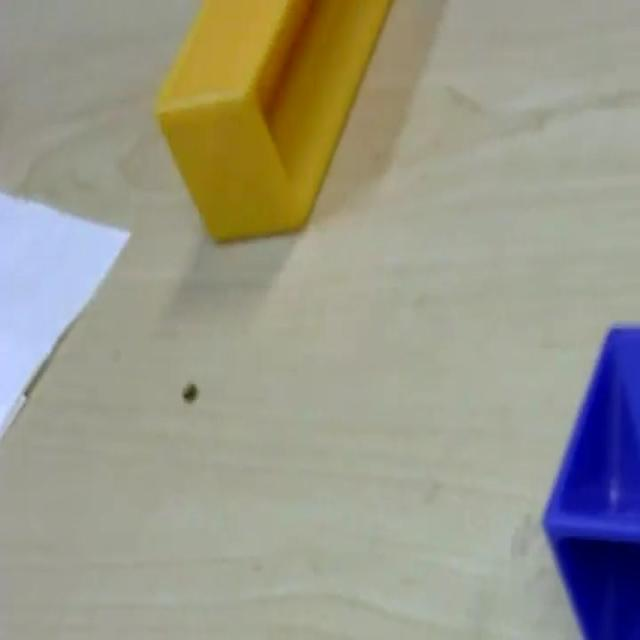blue_block: (541, 320, 638, 636)
yellow_block: (155, 0, 393, 244)
